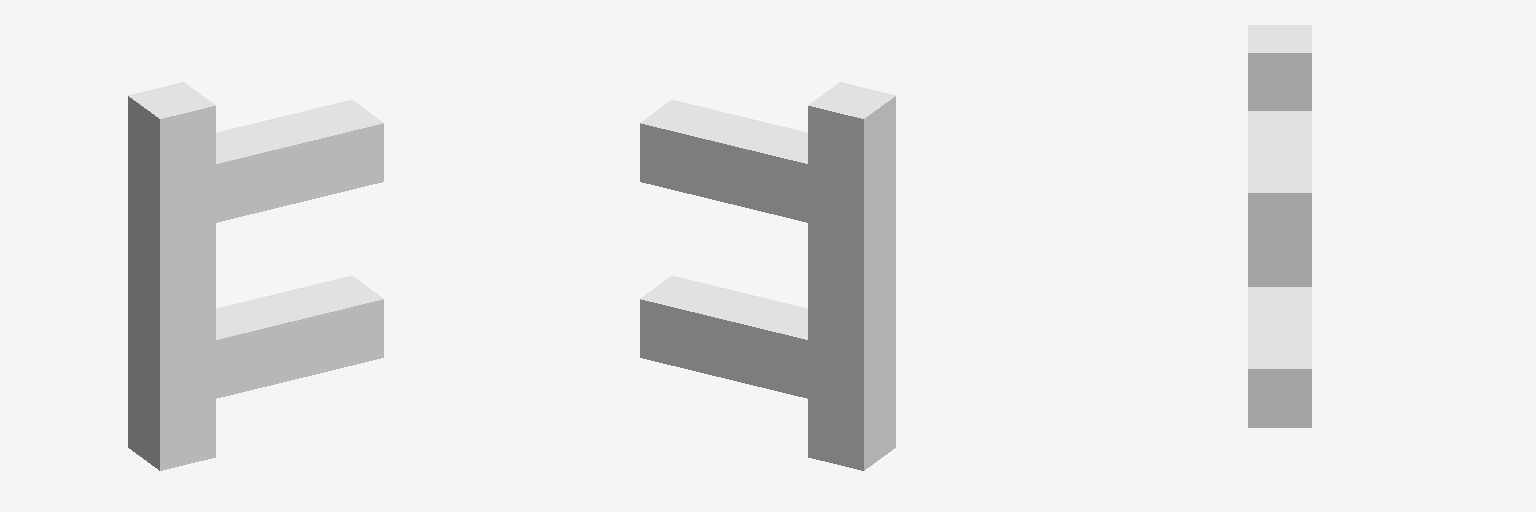
File: farm-44-fence_end.obj
3 views of the same model, side by side, from view 1: azimuth 30°, elevation 25°; view 2: azimuth 150°, elevation 25°; view 3: azimuth 270°, elevation 25° (orthographic).
Parts seen in each view (by area): view 1: fence_end; view 2: fence_end; view 3: fence_end.
Part boxes in pixels (left/top/right/bottom): fence_end: left=128, top=82, right=383, bottom=470; fence_end: left=640, top=82, right=895, bottom=470; fence_end: left=1248, top=25, right=1311, bottom=427.
Size of the model in its own units: 0.4 by 0.6 by 0.1.